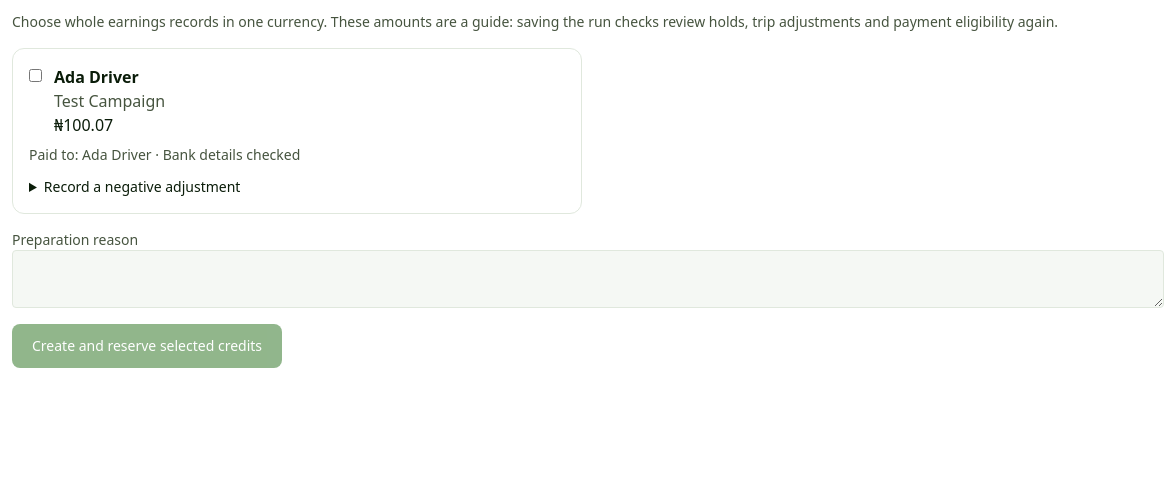
Test: payout form states › clears the preview when a selection is removed
Type "Staff payment review" into the text box labelled "Preparation reason" at coordinates (588, 279), box [12,250,1164,308]
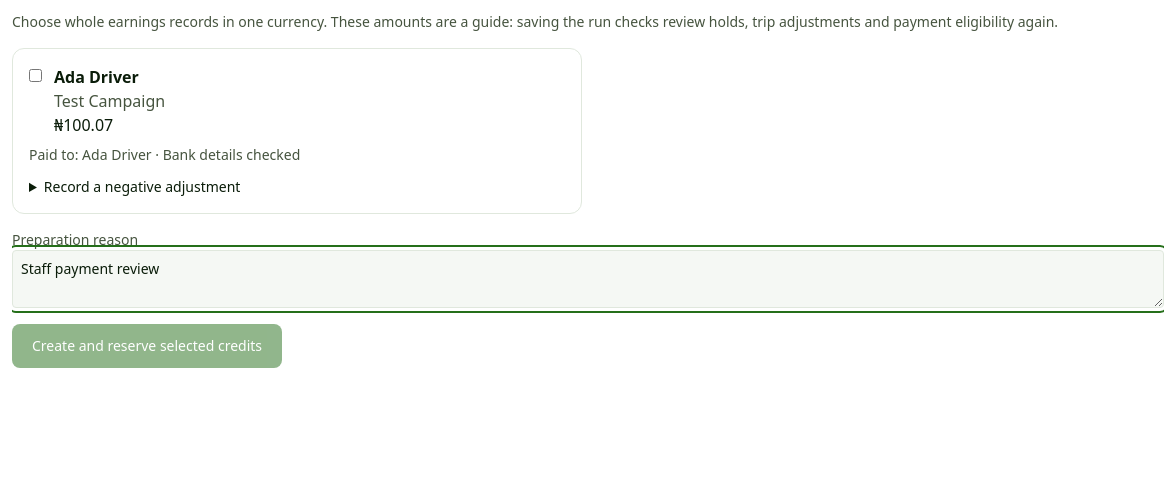
Click the checkbox at coordinates (36, 76), box [29,69,42,82]
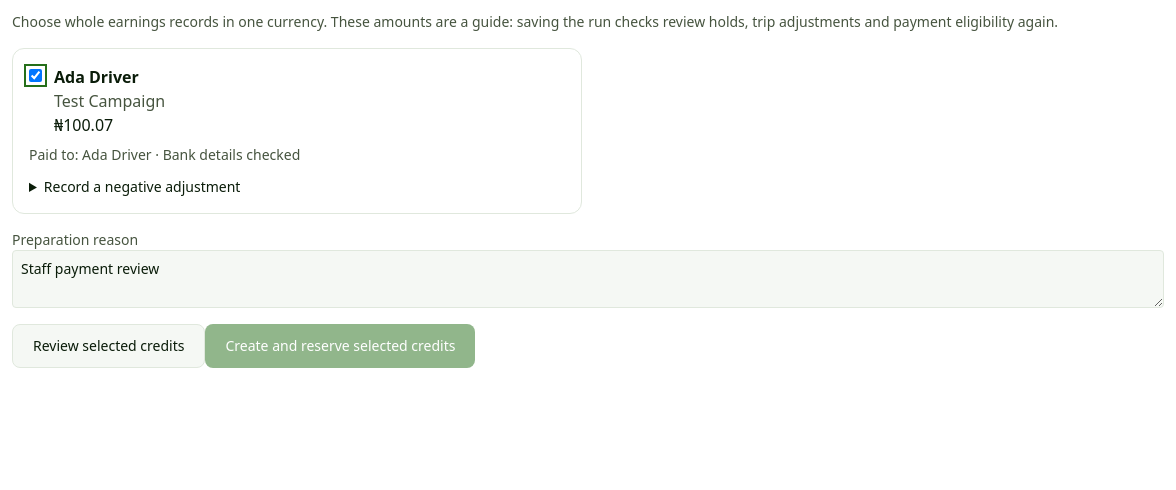
Expected: the button "Review selected credits" is enabled
Click the button "Review selected credits" at coordinates (109, 346), box [12,324,205,368]
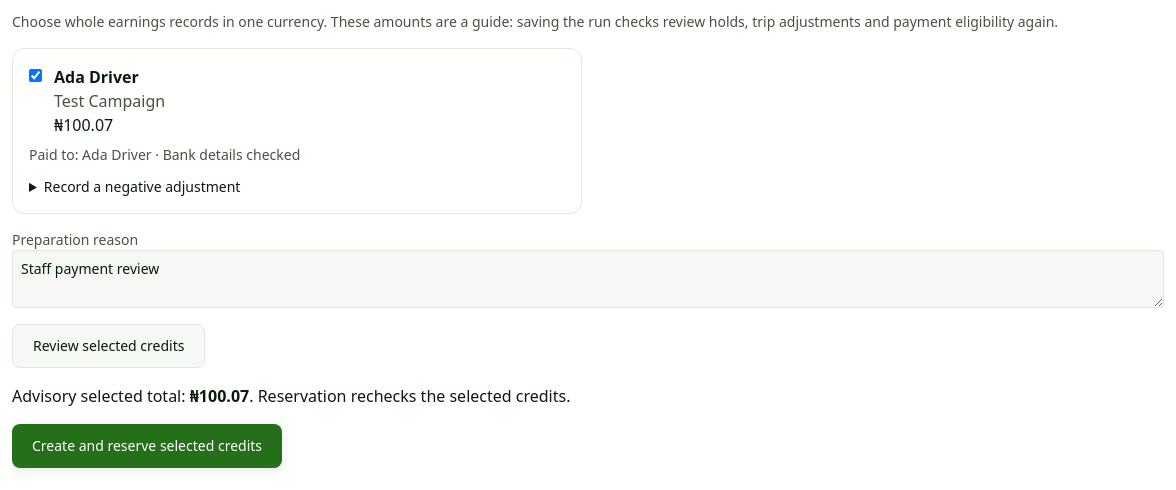
Expected: the text "Advisory selected total" is shown, [12,385,186,407]
Click the checkbox at coordinates (36, 76), box [29,69,42,82]
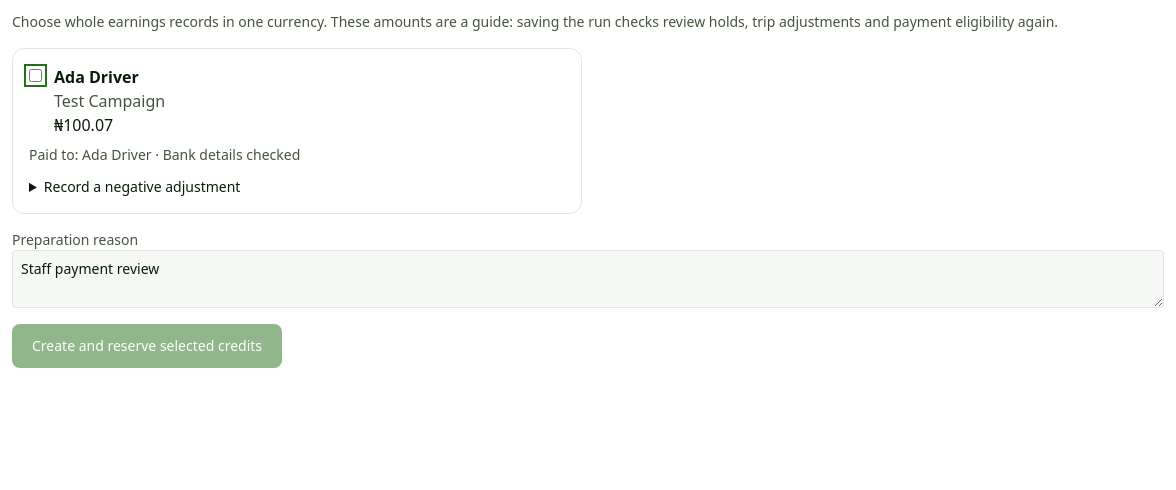
Expected: the text "Advisory selected total" is gone
Expected: the button "Review selected credits" is gone
